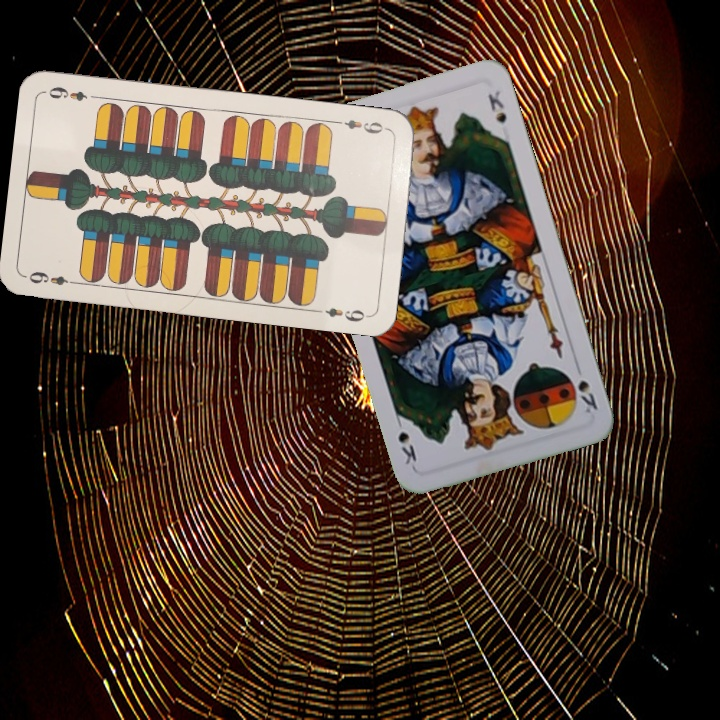E9: (332, 115, 391, 137), (25, 267, 82, 288)
SK: (571, 359, 600, 417)
